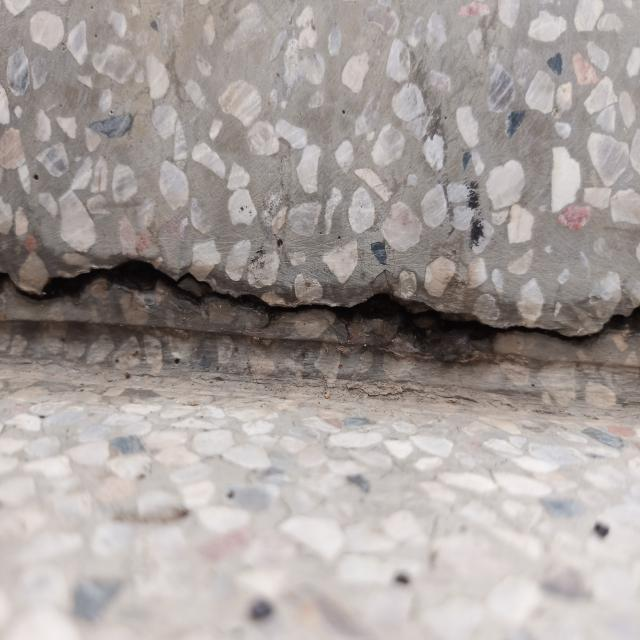horizontal crack: (0, 261, 639, 343)
